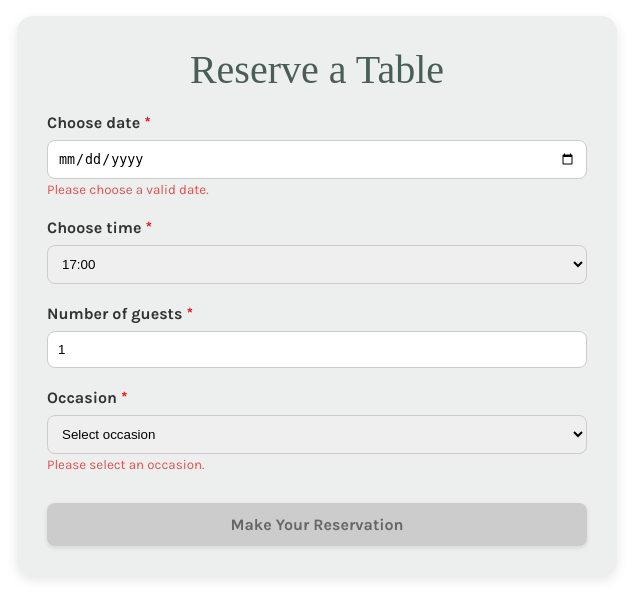
Test: Submit button is disabled initially and enabled when valid data is entered
Check: the button with aria-label "On Click" is disabled, box x1=47 y1=503 x2=587 y2=546
Note: Fill in valid data
Type "2026-06-01" into the date field labelled "Choose date *". click: point(317, 160)
box: x1=47 y1=140 x2=587 y2=179
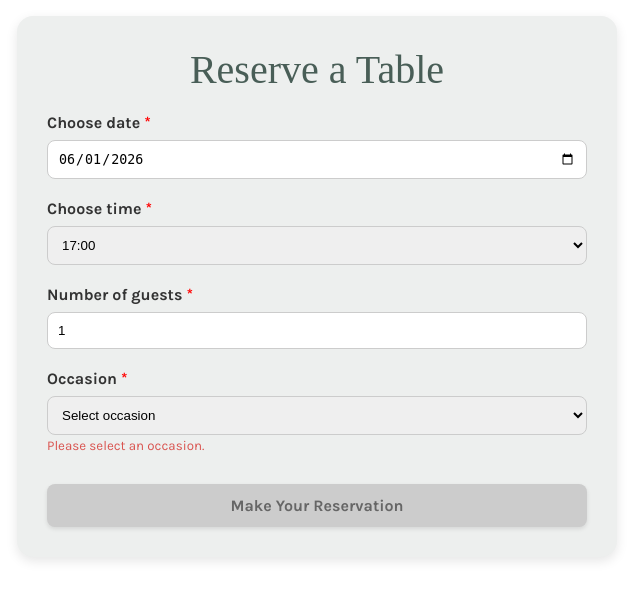
Type "3" into the number field labelled "Number of guests *". click: point(317, 331)
box: x1=47 y1=312 x2=587 y2=349
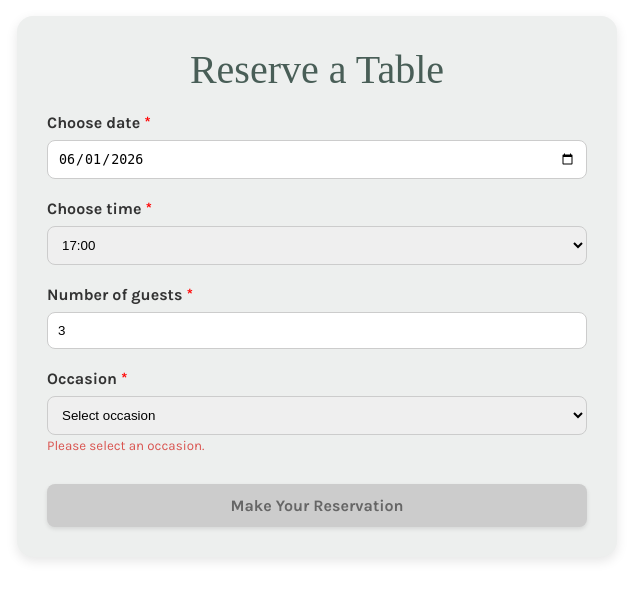
Select "Birthday" in the dropdown labelled "Occasion *". click: point(317, 416)
box: x1=47 y1=396 x2=587 y2=435
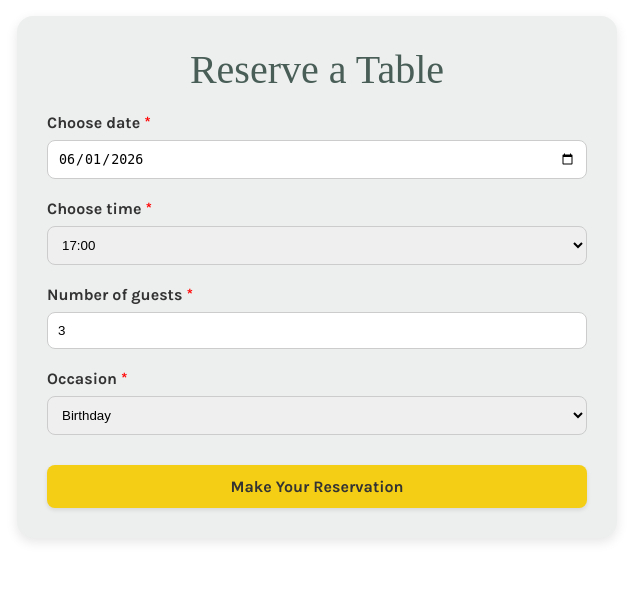
Check: the button with aria-label "On Click" is enabled, box x1=47 y1=465 x2=587 y2=508
